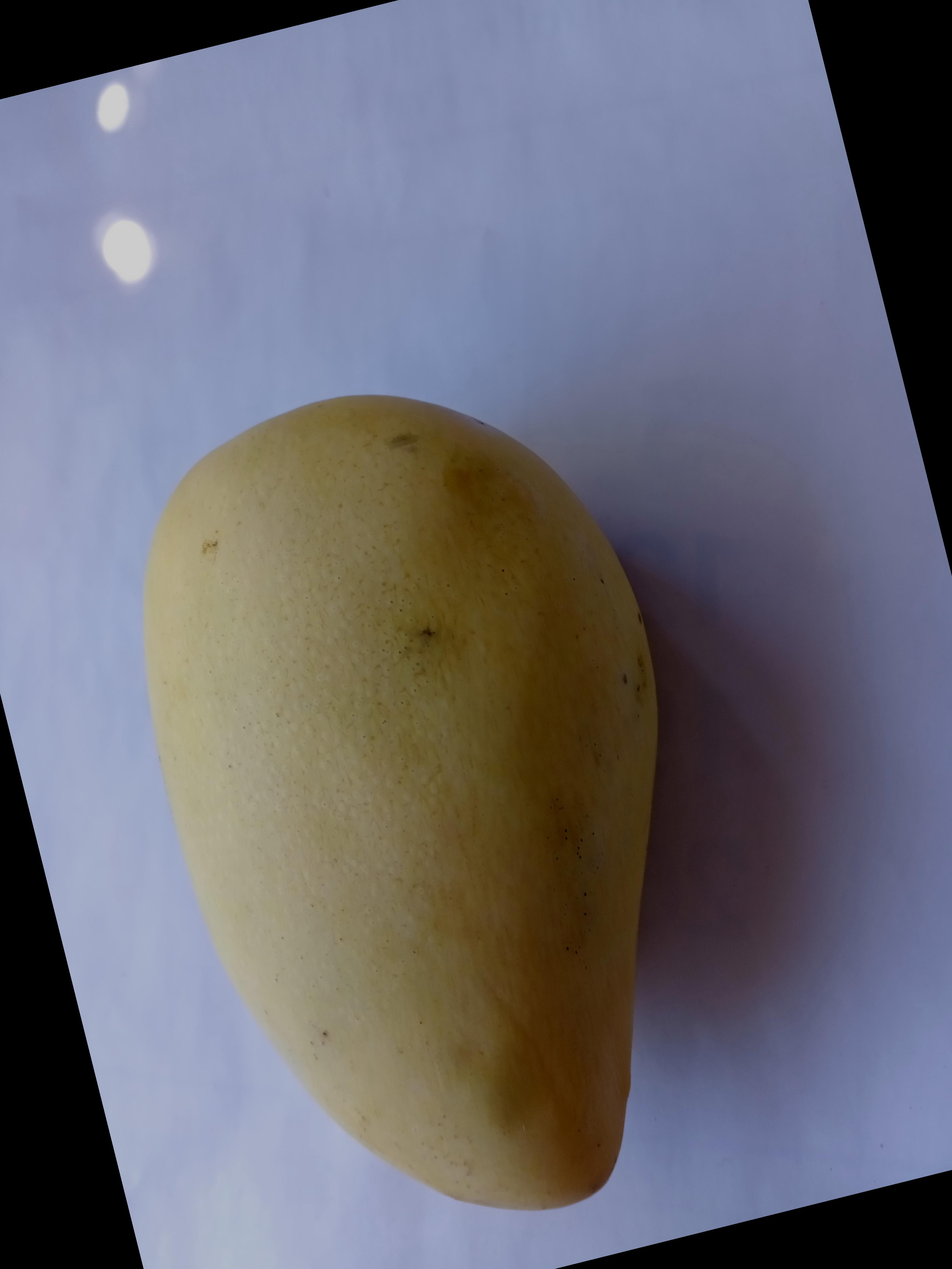Mango Ripe: (0, 451, 610, 1269)
